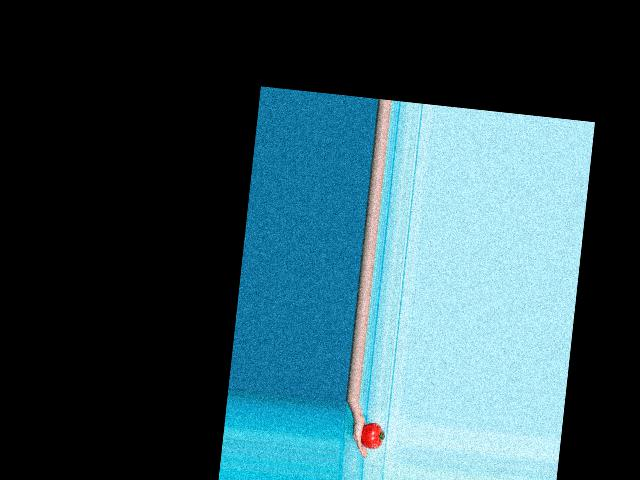tomato: (359, 422, 385, 450)
